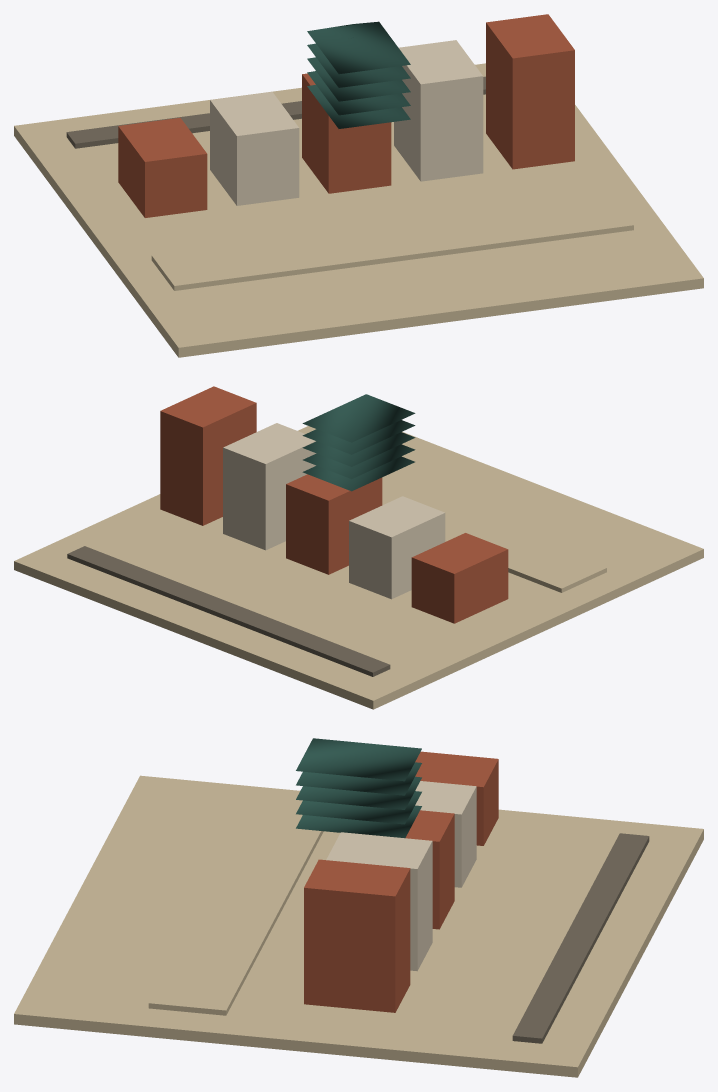
File: model-medium.glb
The picture shows the model from 3 angles, top to bottom: view 1: azimuth 30°, elevation 25°; view 2: azimuth 150°, elevation 25°; view 3: azimuth 270°, elevation 25°; orthographic projection. The views are drawn at different scales.
Parts seen in each view (by area): view 1: context_site_plinth, street_public_axis, street_facade_4, street_facade_3, street_facade_1, street_facade_0, street_facade_2, street_roof_4, front_scale_strip, street_roof_3, street_roof_0, street_roof_2 (+1 smaller); view 2: context_site_plinth, street_facade_4, street_facade_3, street_facade_1, street_facade_0, street_facade_2, front_scale_strip, street_public_axis, street_roof_4, street_roof_0, street_roof_1, street_roof_2 (+1 smaller); view 3: context_site_plinth, street_public_axis, street_facade_4, front_scale_strip, street_facade_3, street_roof_4, street_facade_0, street_facade_1, street_facade_2, street_roof_1, street_roof_3, street_roof_2 (+1 smaller).
Part boxes in pixels (x1,y1,x2,y2): context_site_plinth: (14, 63, 703, 357); street_public_axis: (151, 194, 633, 290); street_facade_4: (486, 14, 574, 169); street_facade_3: (394, 40, 483, 181); street_facade_1: (210, 92, 299, 205); street_facade_0: (118, 117, 207, 217); street_facade_2: (302, 73, 391, 193); street_roof_4: (307, 21, 410, 74); front_scale_strip: (66, 76, 485, 148); street_roof_3: (307, 37, 410, 87); street_roof_0: (307, 84, 410, 128); street_roof_2: (307, 57, 410, 101); context_site_plinth: (14, 426, 703, 709); street_facade_4: (160, 386, 256, 525); street_facade_3: (223, 423, 316, 550); street_facade_1: (349, 496, 445, 599); street_facade_0: (411, 533, 508, 623); street_facade_2: (286, 474, 382, 574); front_scale_strip: (67, 546, 390, 676); street_public_axis: (382, 480, 606, 592); street_roof_4: (302, 394, 415, 442); street_roof_0: (302, 456, 414, 491); street_roof_1: (303, 444, 415, 479); street_roof_2: (302, 432, 415, 466); context_site_plinth: (14, 775, 703, 1077); street_public_axis: (148, 794, 323, 1015); street_facade_4: (304, 859, 410, 1012); front_scale_strip: (512, 833, 649, 1043); street_facade_3: (326, 832, 432, 971); street_roof_4: (296, 738, 421, 781); street_facade_0: (415, 751, 498, 845); street_facade_1: (415, 781, 476, 887); street_facade_2: (405, 810, 454, 929); street_roof_1: (296, 791, 421, 824); street_roof_3: (296, 762, 421, 795); street_roof_2: (296, 776, 421, 809).
Size of the model in its own units: 9.55 by 2.89 by 9.55.
